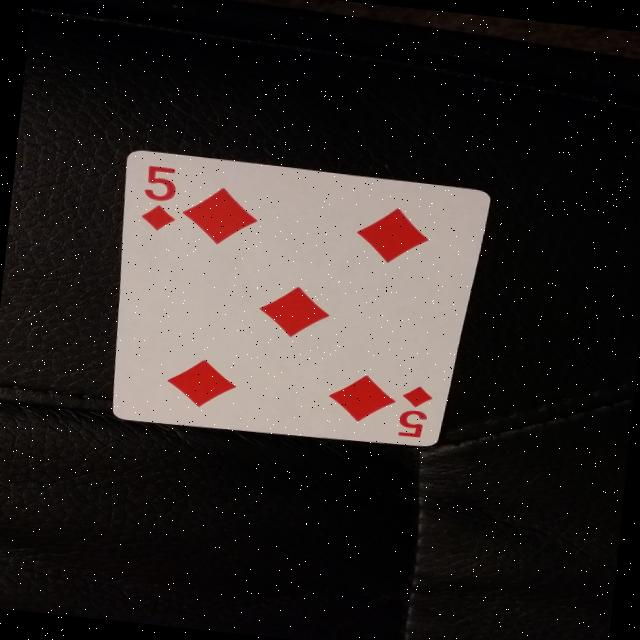5d: (126, 159, 192, 244), (384, 378, 446, 447)
